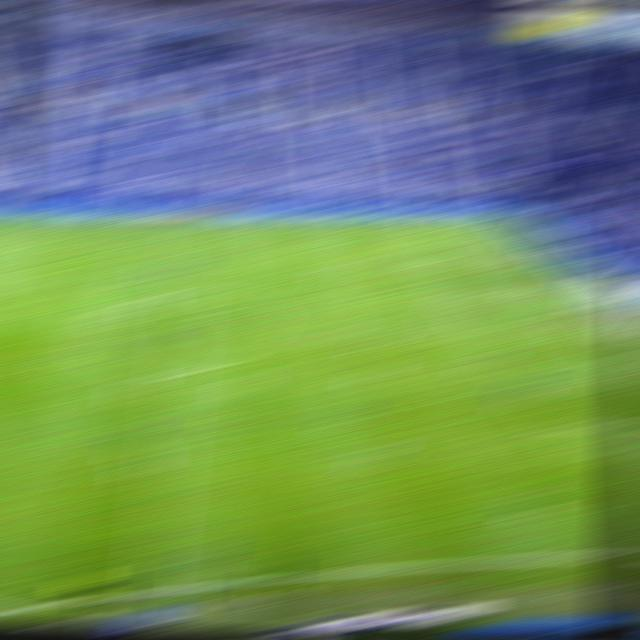bigarea_bottom_inner: (540, 424, 577, 432)
bigarea_top_inner: (414, 251, 450, 260)
bigarea_top_outter: (516, 250, 553, 260)
bottom_arc_area_intersection: (485, 348, 521, 357)
corner: (480, 219, 518, 228)
halfcircle_bottom: (158, 370, 194, 377)
halfcircle_top: (169, 289, 203, 295)
midline_bottom_intersection: (132, 589, 168, 598)
midline_top_intersection: (175, 221, 210, 229)
smallarea_bottom_inner: (589, 356, 627, 366)
smallarea_top_inner: (515, 282, 552, 291)
smallarea_top_outter: (554, 283, 588, 290)
top_arc_area_intersection: (442, 289, 477, 297)
